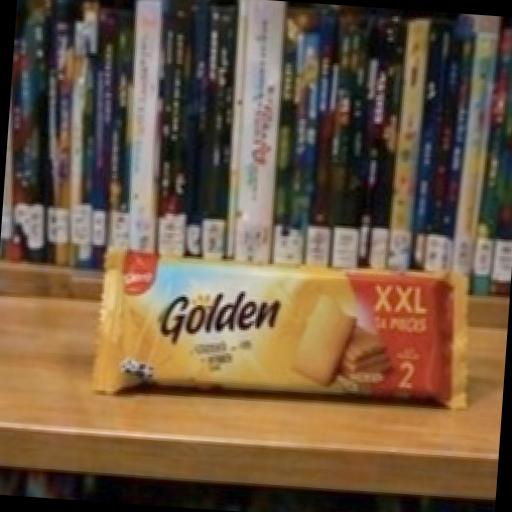golden: (60, 192, 504, 474)
